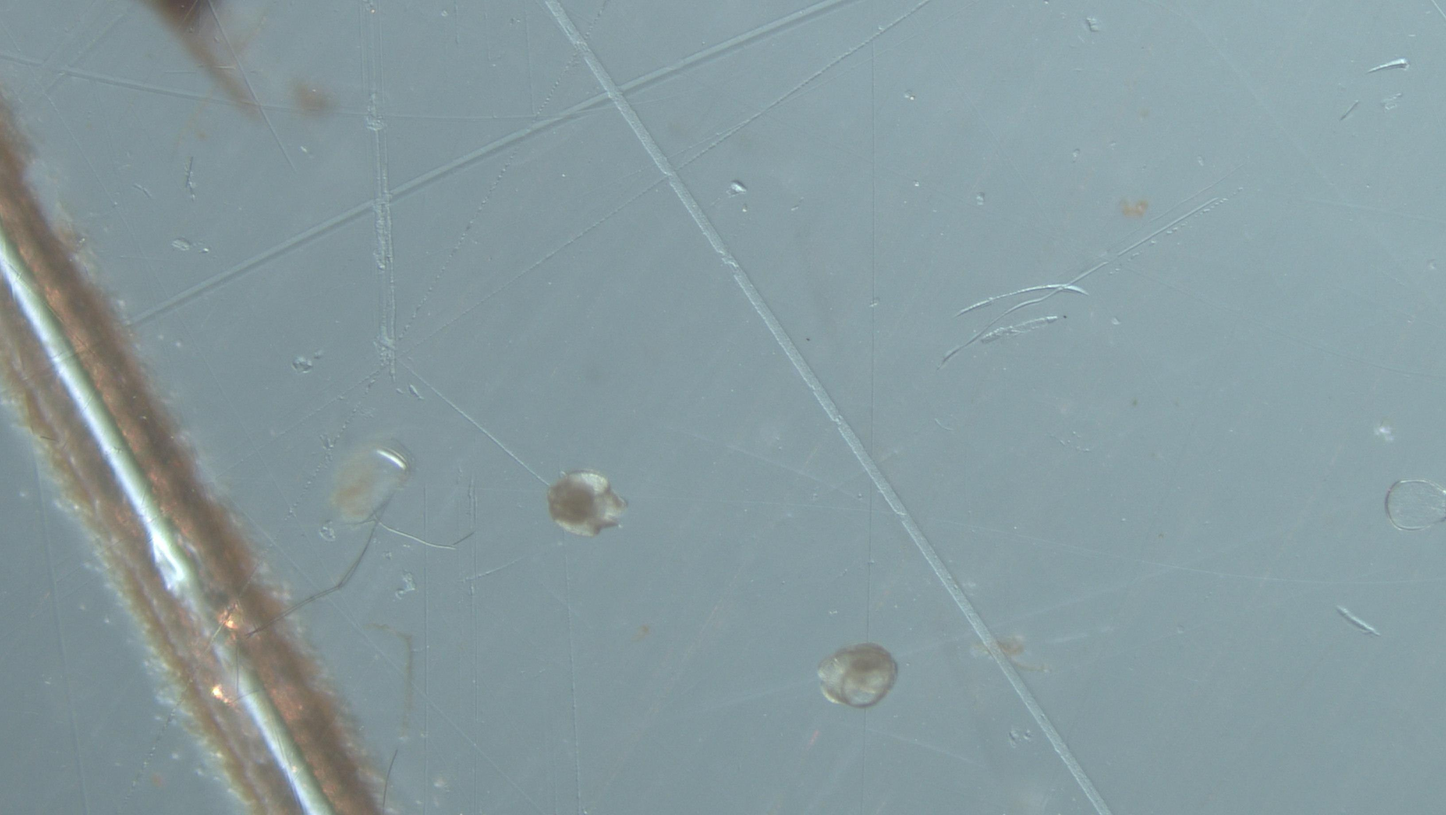live: (817, 643, 898, 709), (548, 471, 626, 537)
